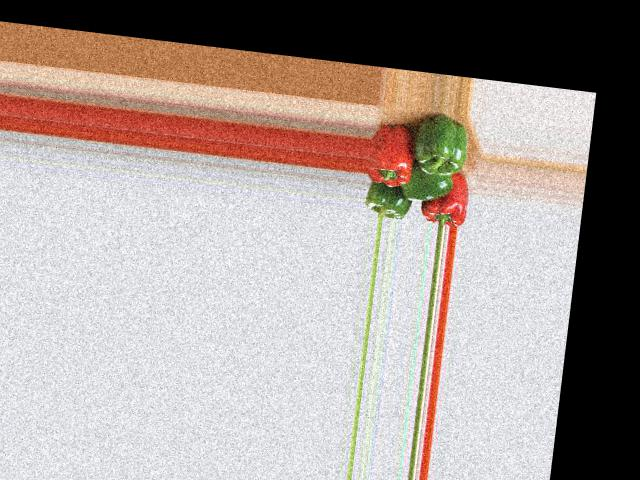bell_pepper: (367, 116, 420, 187)
